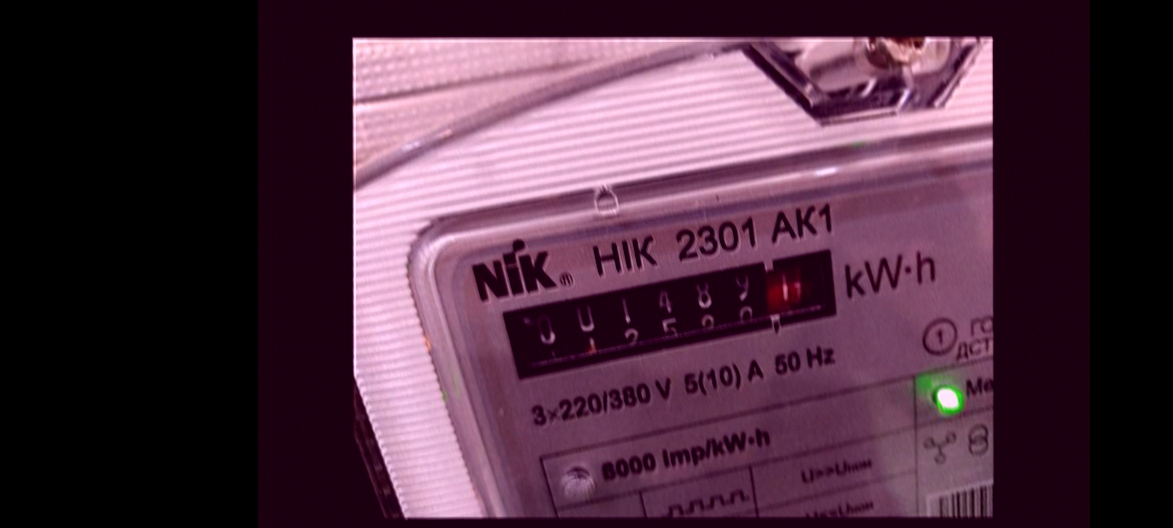0: (573, 299, 599, 335), (535, 313, 559, 348)
1: (775, 266, 795, 304), (617, 295, 637, 326)
4: (655, 284, 677, 316)
8: (695, 276, 716, 312)
9: (733, 270, 754, 302)
screen: (491, 240, 867, 392)
